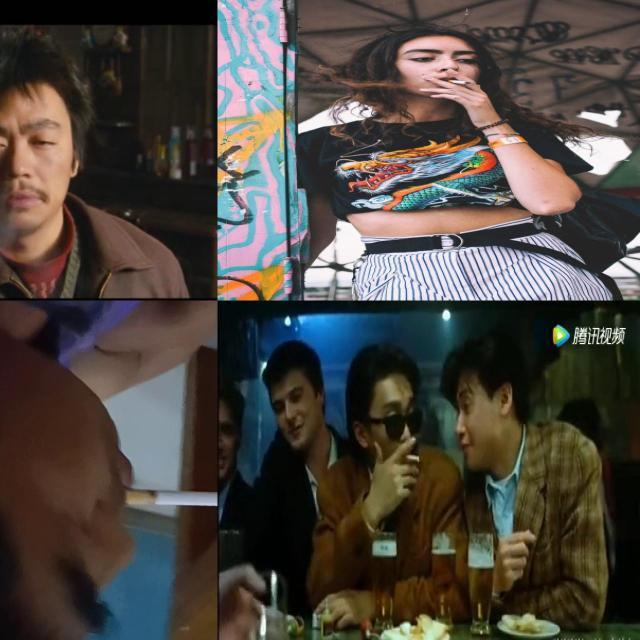smoking: (125, 489, 217, 507), (443, 76, 473, 84), (404, 452, 422, 464)
